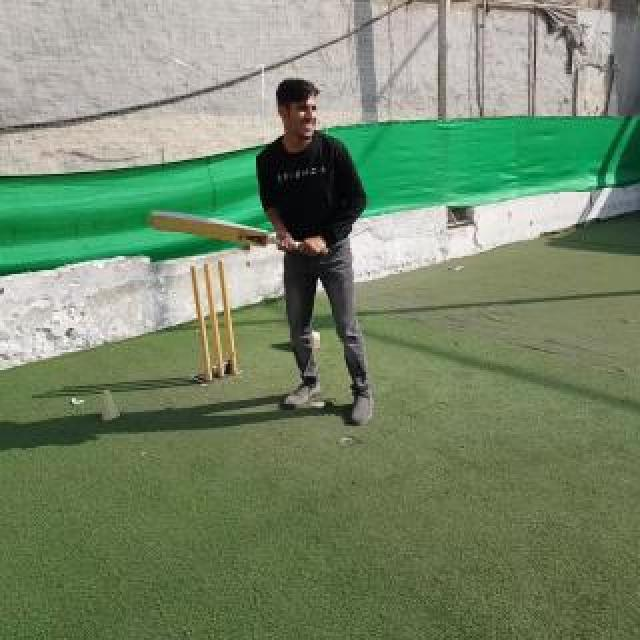bat: (148, 210, 330, 256)
